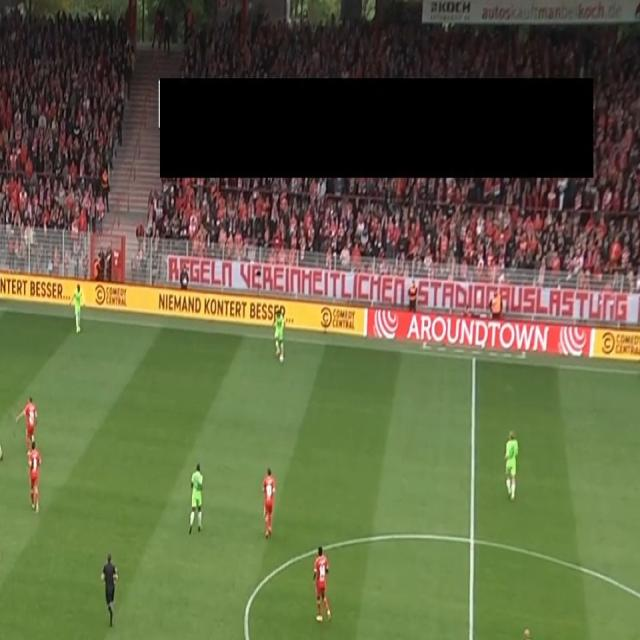ball: (278, 353, 285, 365)
